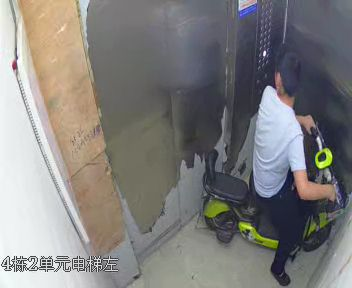Electric-bicycle: (203, 131, 343, 250)
